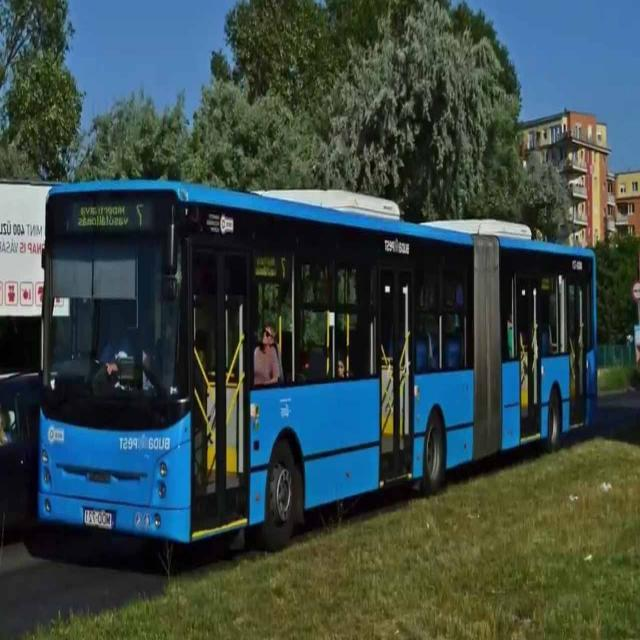bus: (35, 172, 603, 553)
